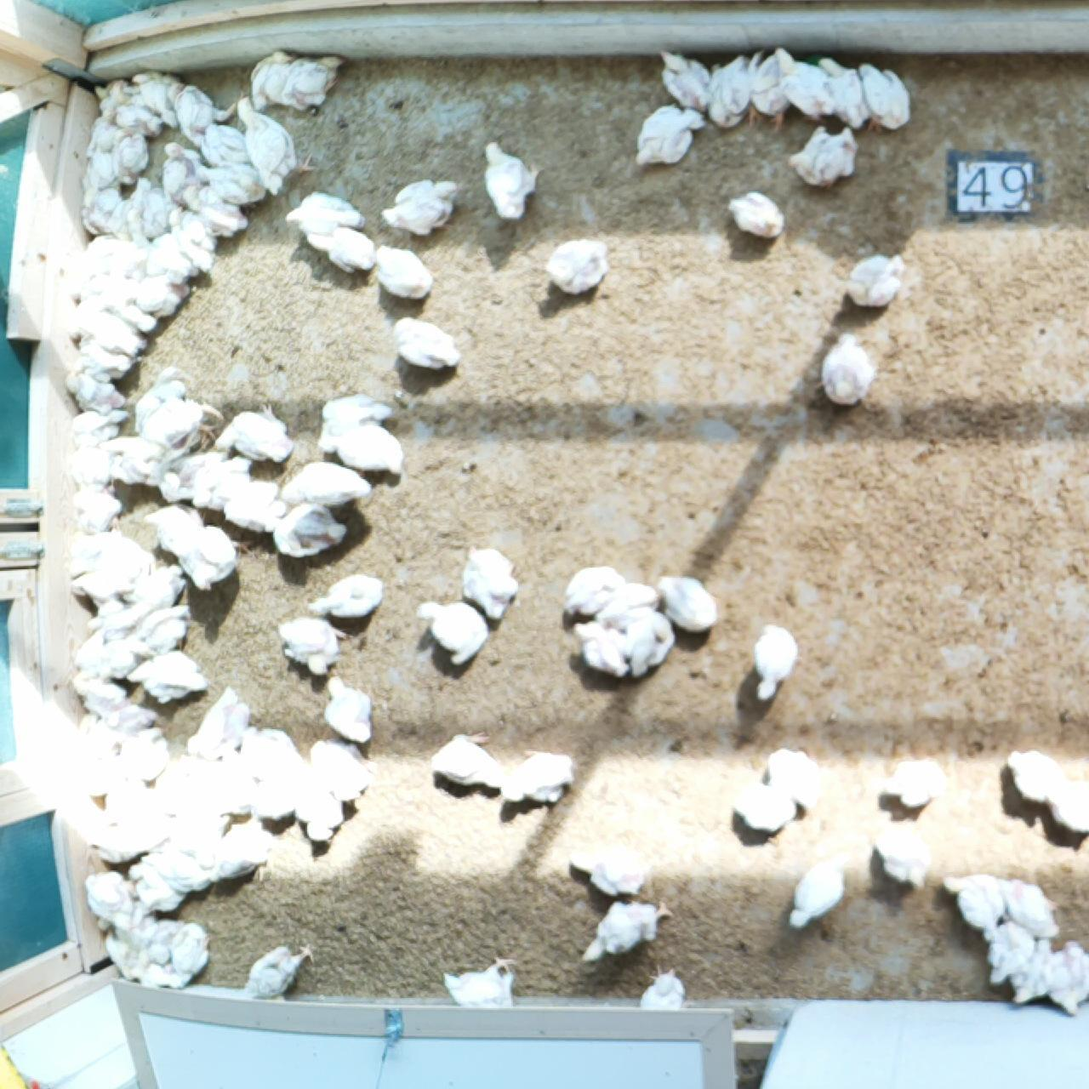chicken: (236, 91, 314, 198), (582, 890, 678, 969), (423, 729, 519, 794), (173, 522, 256, 593), (413, 594, 490, 669), (458, 537, 525, 623), (210, 399, 295, 465), (563, 838, 654, 899), (780, 856, 850, 935), (384, 172, 464, 241), (479, 138, 543, 224), (810, 330, 879, 408), (497, 746, 582, 809), (725, 773, 799, 844), (868, 815, 936, 892), (632, 102, 706, 172), (111, 561, 185, 631), (278, 457, 373, 511), (313, 392, 392, 456), (187, 685, 253, 761), (279, 613, 354, 677), (290, 764, 349, 845), (171, 77, 241, 145), (263, 500, 349, 555), (747, 618, 802, 704), (761, 745, 829, 814), (307, 732, 377, 799), (438, 949, 520, 1005), (99, 432, 182, 487), (119, 599, 196, 658), (617, 605, 676, 682), (942, 868, 1010, 934), (127, 648, 210, 702), (68, 296, 142, 356), (654, 576, 725, 638), (388, 314, 463, 372), (856, 61, 914, 136), (321, 669, 378, 745), (543, 238, 615, 298), (280, 186, 368, 235), (845, 248, 910, 314), (372, 242, 436, 309), (330, 415, 405, 472), (557, 562, 628, 622), (307, 571, 390, 622), (571, 618, 637, 682), (163, 801, 225, 869), (816, 52, 870, 130), (1004, 745, 1068, 810), (243, 945, 317, 1000), (981, 916, 1035, 991), (655, 47, 712, 117), (302, 221, 380, 272), (206, 824, 269, 887), (283, 50, 347, 112), (723, 182, 789, 242), (178, 180, 251, 234), (779, 46, 831, 120), (1003, 874, 1063, 938), (64, 529, 144, 577), (167, 205, 221, 276), (877, 755, 949, 808), (746, 47, 791, 130), (135, 363, 189, 432), (79, 820, 166, 862), (705, 52, 753, 128), (125, 270, 191, 323), (142, 396, 209, 448), (195, 162, 269, 209), (133, 69, 187, 133), (1046, 937, 1089, 1017), (1011, 932, 1056, 1007), (192, 456, 252, 512), (157, 449, 222, 500), (251, 46, 301, 112), (140, 502, 210, 549), (125, 860, 184, 915), (209, 754, 258, 819), (138, 847, 207, 893), (221, 476, 277, 532), (237, 721, 301, 770), (65, 481, 122, 536), (158, 139, 208, 200), (786, 125, 832, 190), (64, 752, 121, 804), (249, 768, 300, 826), (119, 726, 169, 785), (634, 961, 690, 1013), (65, 367, 125, 415), (105, 167, 148, 233), (100, 785, 169, 825), (815, 125, 860, 186), (601, 581, 663, 624), (162, 749, 211, 803), (145, 231, 200, 279), (118, 901, 156, 970), (66, 441, 115, 494), (71, 708, 119, 761), (68, 567, 135, 604), (110, 130, 153, 187), (84, 868, 132, 918), (172, 920, 212, 980), (1046, 778, 1089, 833), (194, 121, 251, 162), (99, 703, 161, 740), (74, 408, 129, 449), (75, 188, 122, 235), (70, 670, 124, 710), (97, 633, 139, 680), (85, 597, 130, 640), (70, 341, 131, 372), (139, 183, 176, 234), (83, 236, 139, 268), (82, 266, 126, 306), (74, 625, 107, 678), (148, 917, 185, 962), (78, 149, 117, 190), (114, 100, 161, 133), (92, 78, 132, 116), (85, 113, 122, 154), (137, 958, 181, 992), (104, 932, 135, 976)
